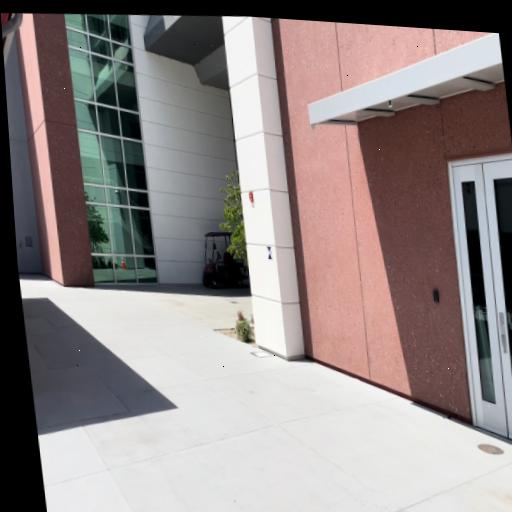target9: (267, 246, 273, 260)
